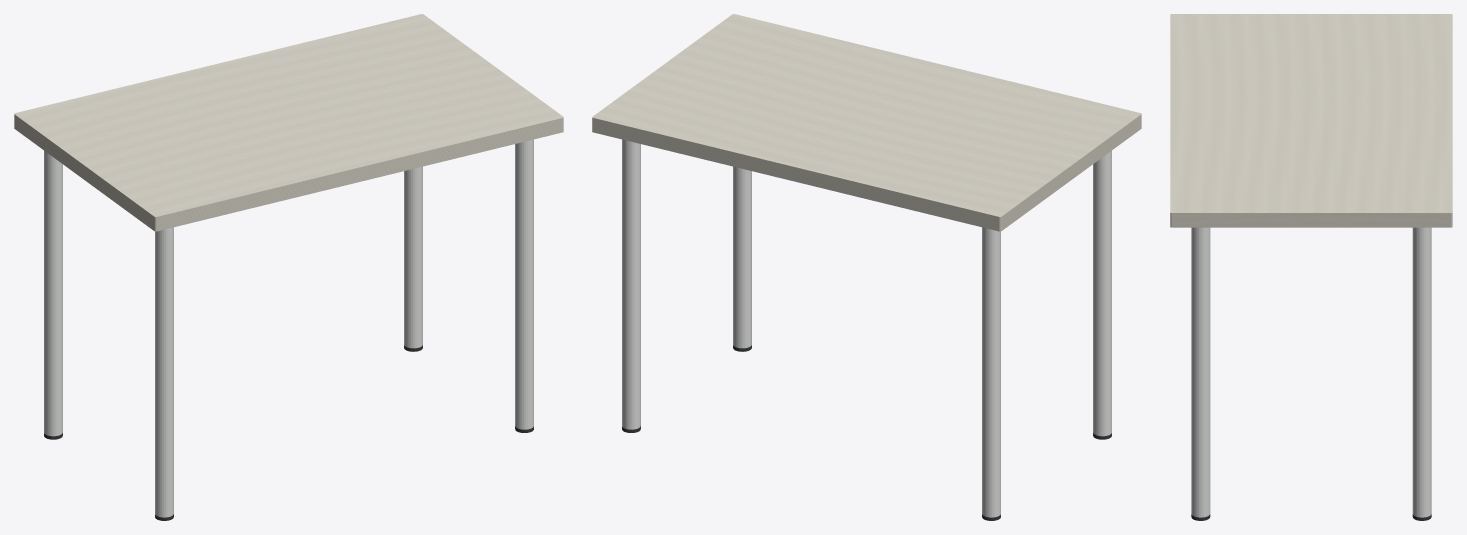
Rendered from linnmon-oak.glb.
3 renders of one model, left to right at view 1: azimuth 30°, elevation 25°; view 2: azimuth 150°, elevation 25°; view 3: azimuth 270°, elevation 25°, orthographic.
Size of the model in its own units: 1 by 0.74 by 0.6.
Materials: 3 (1 with a texture image).
